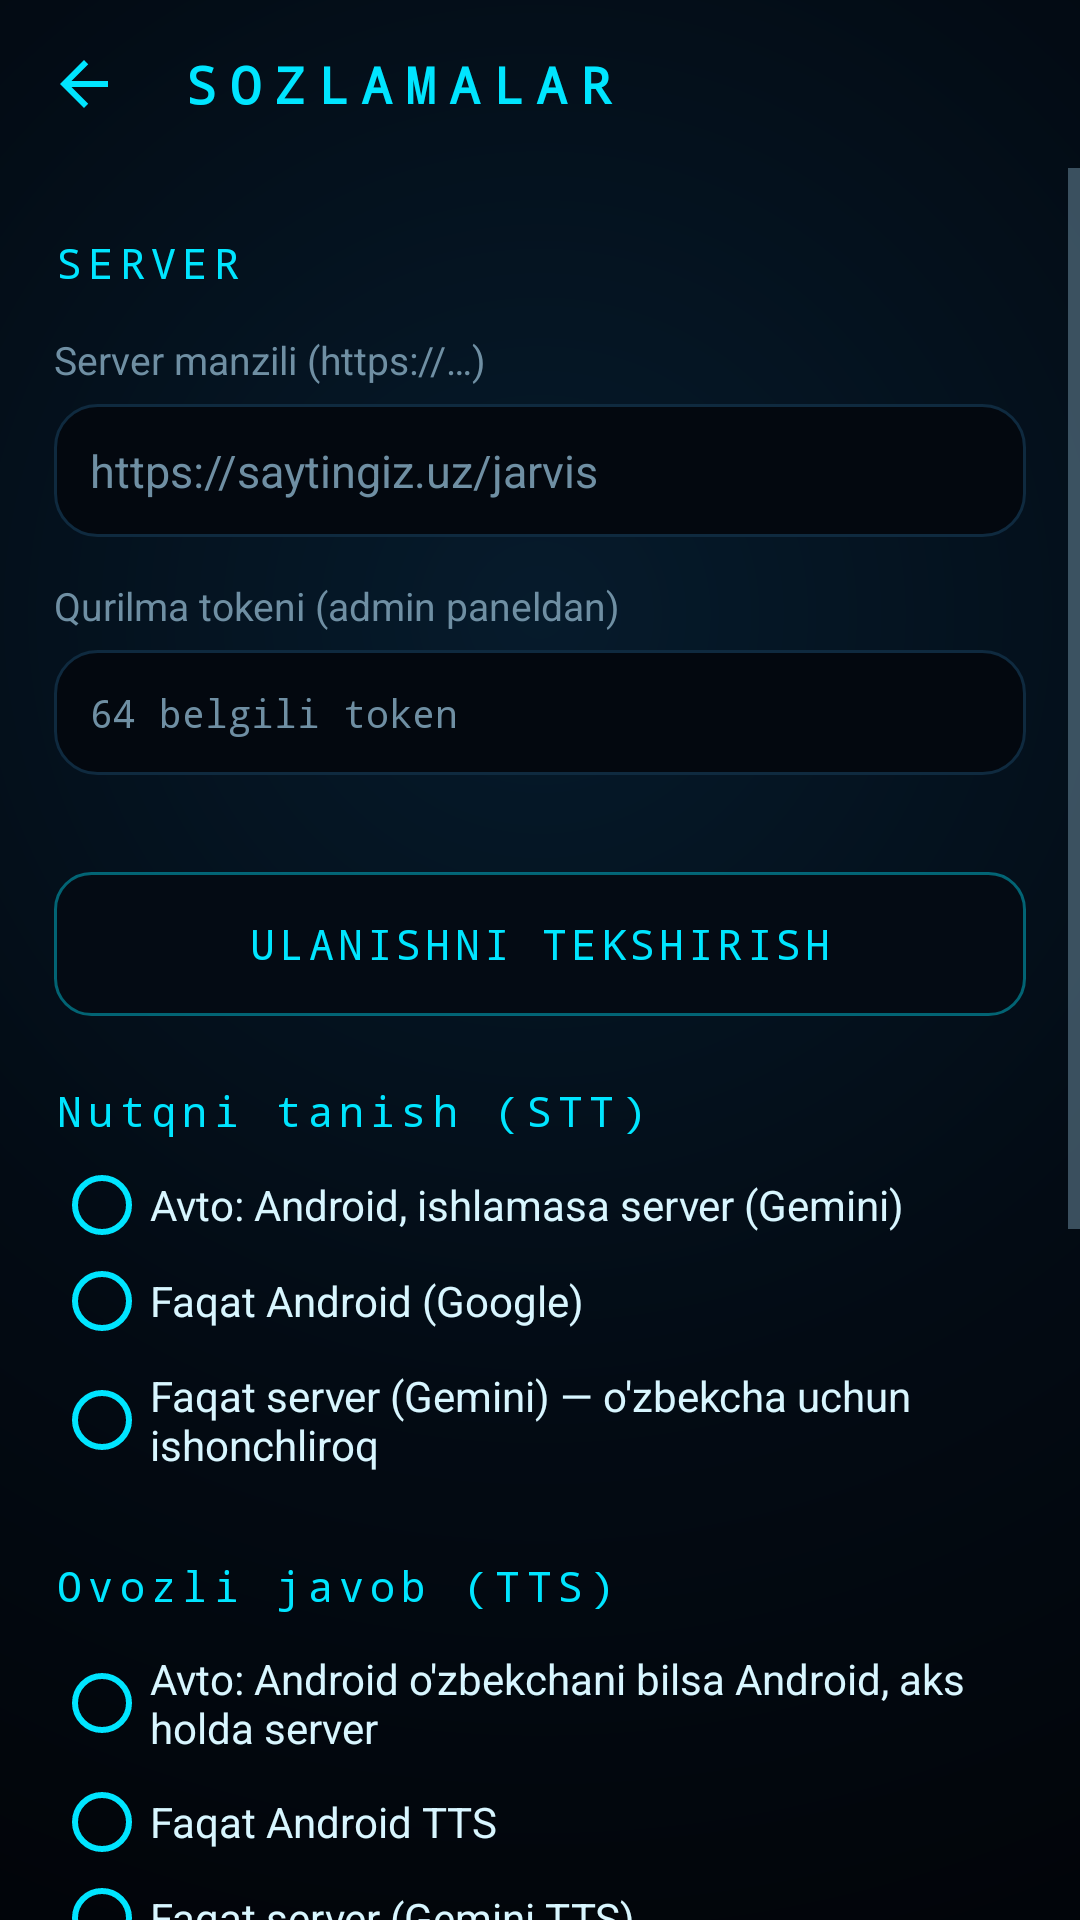

Icons on this 1080w x 1920h Android screen, each with its box as (x1, y1, x2, y2):
Orqaga: (60, 60, 108, 108)
